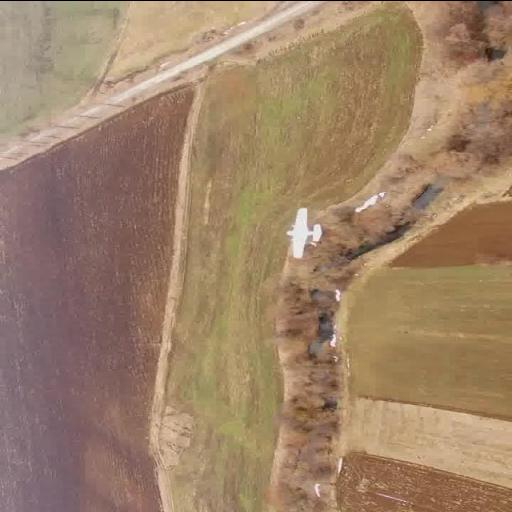uav: (279, 202, 329, 256)
